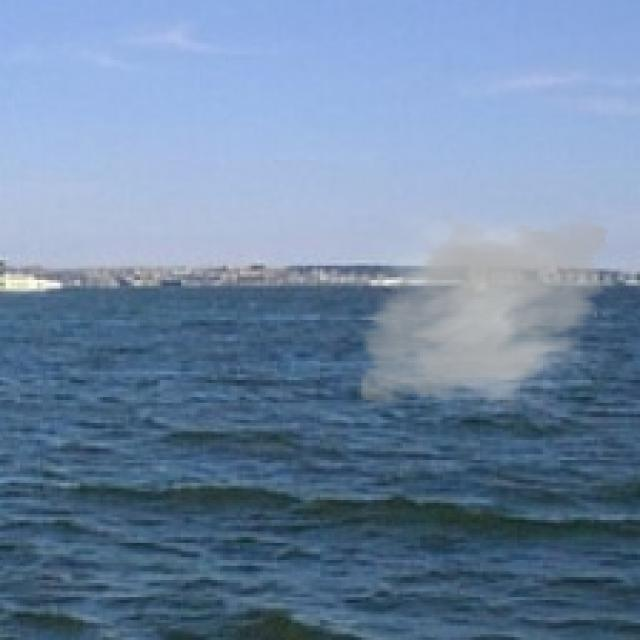Smoke: (346, 200, 620, 420)
